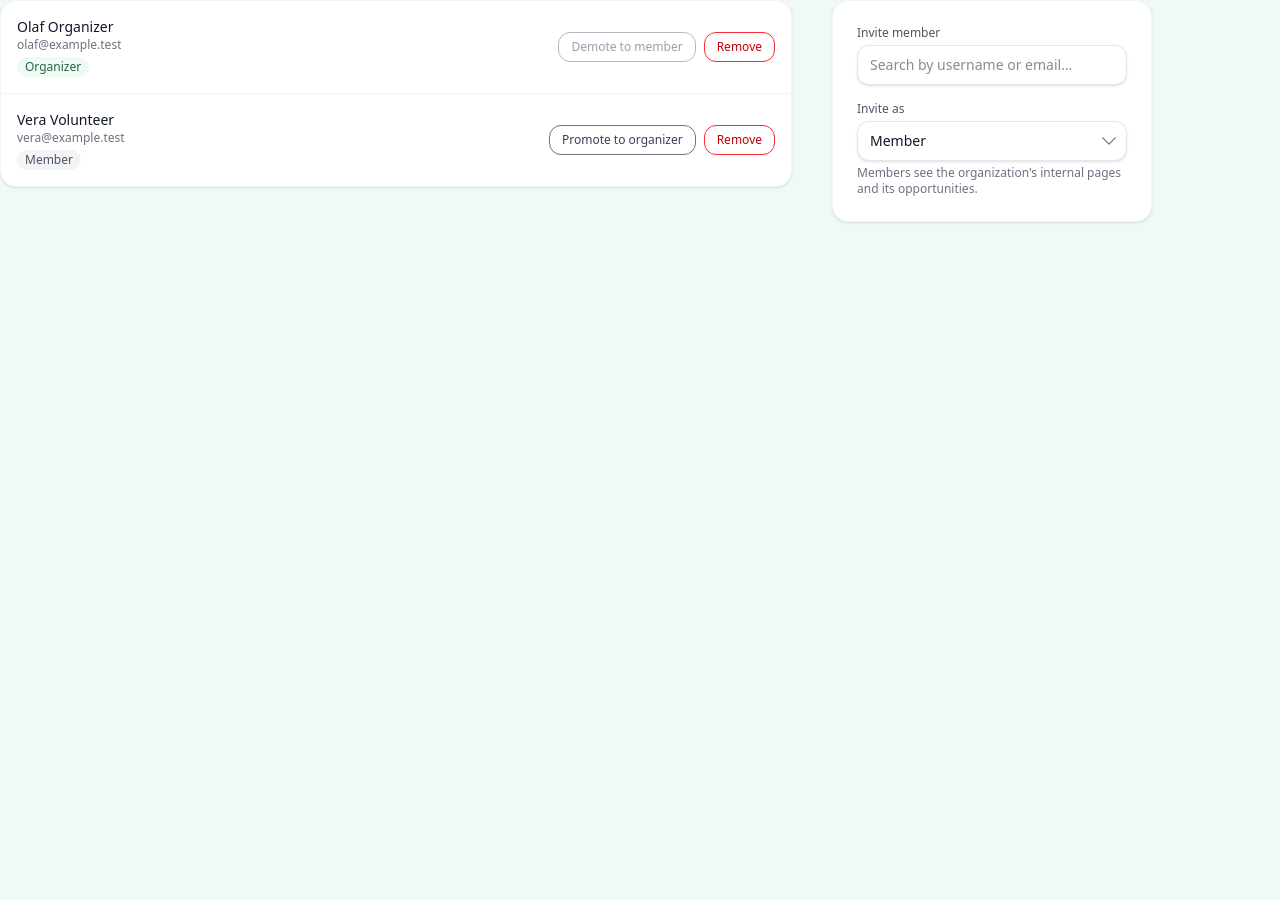
Test case: OrgMembersPage member removal › routes Remove through a confirm dialog naming the member
Click the button with aria-label "Remove Vera Volunteer": (739,140) x1=704 y1=125 x2=775 y2=155
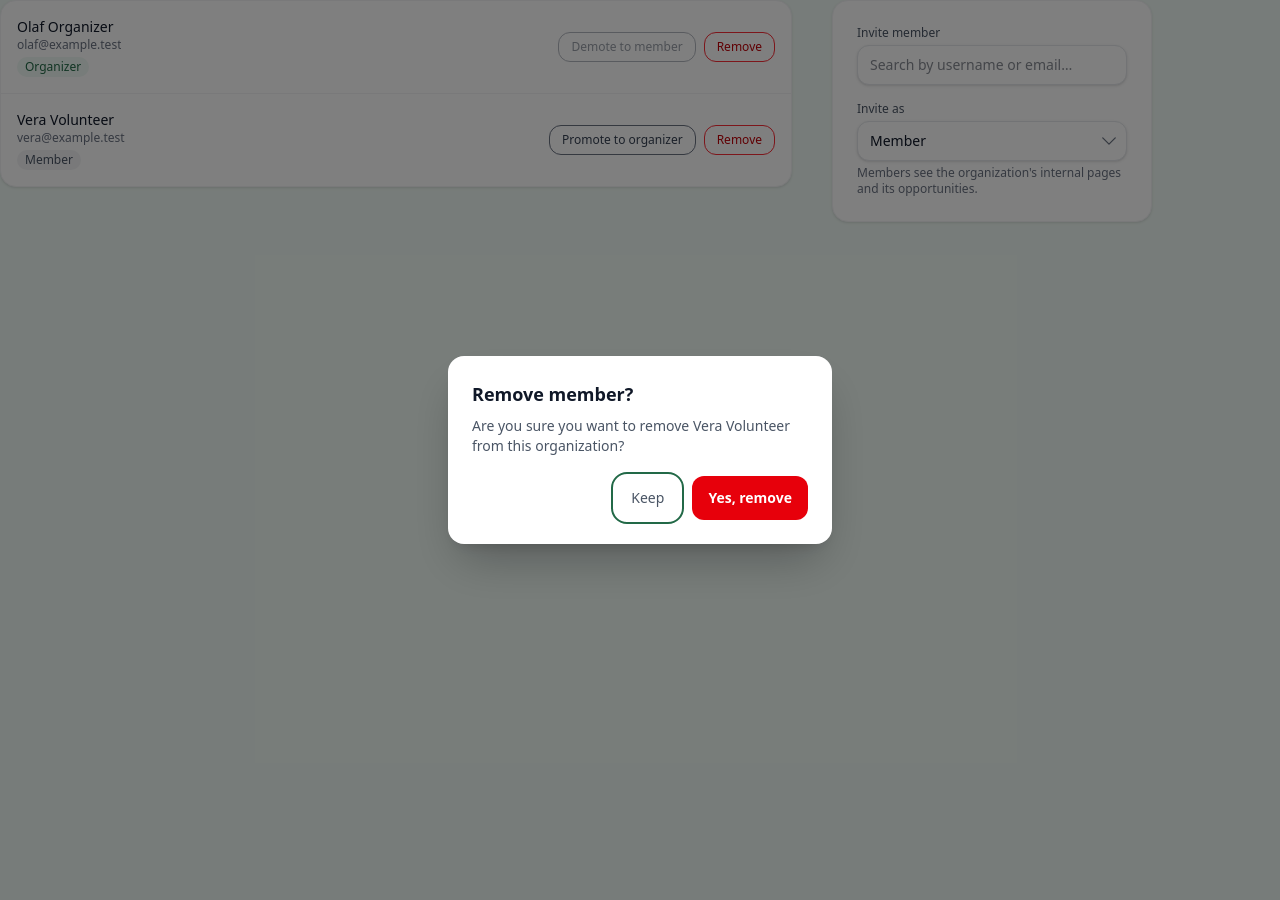
expect the text "Vera Volunteer" is shown: met, box x1=472 y1=416 x2=790 y2=455
Click the button "Keep": (648,498) x1=615 y1=476 x2=680 y2=520
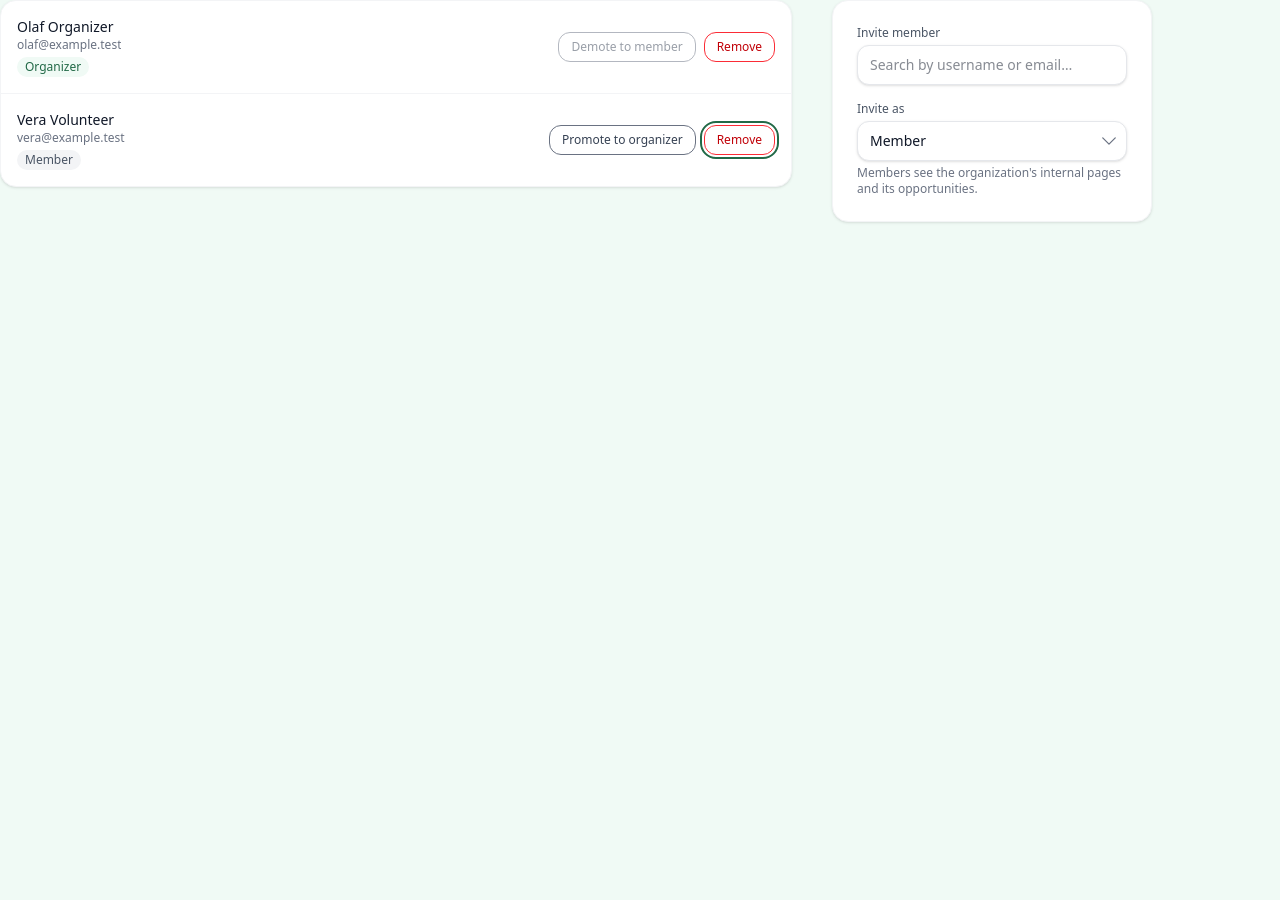
expect the button with aria-label "Remove Vera Volunteer" is shown: met, box x1=704 y1=125 x2=775 y2=155
expect the dialog is gone: met
